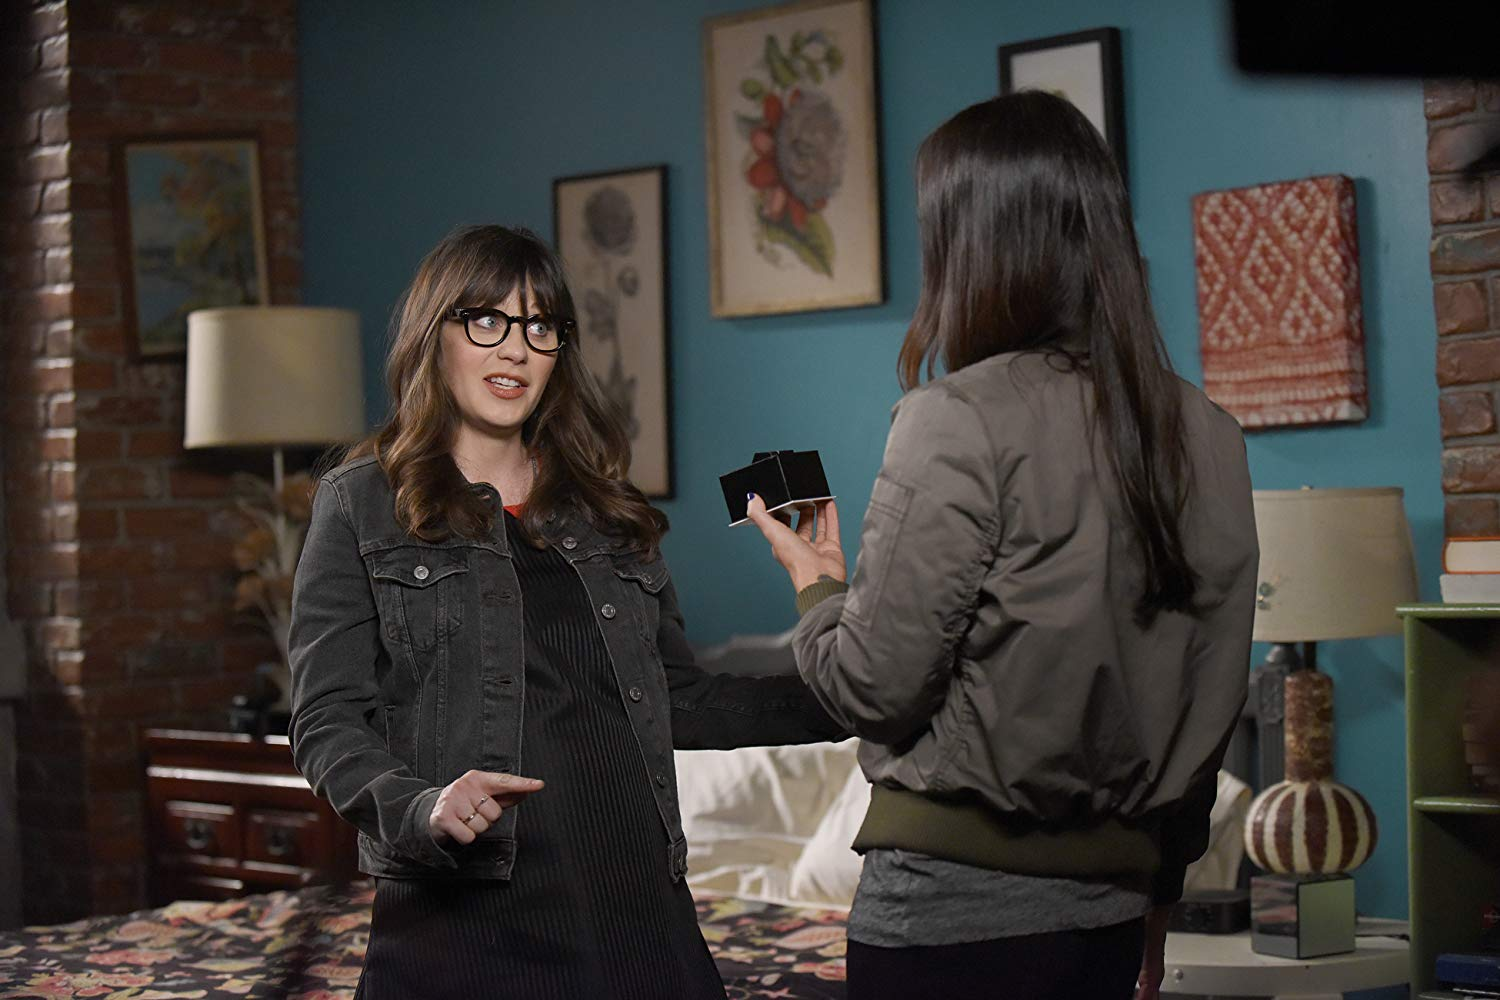person: (712, 100, 1216, 993), (300, 221, 744, 997)
